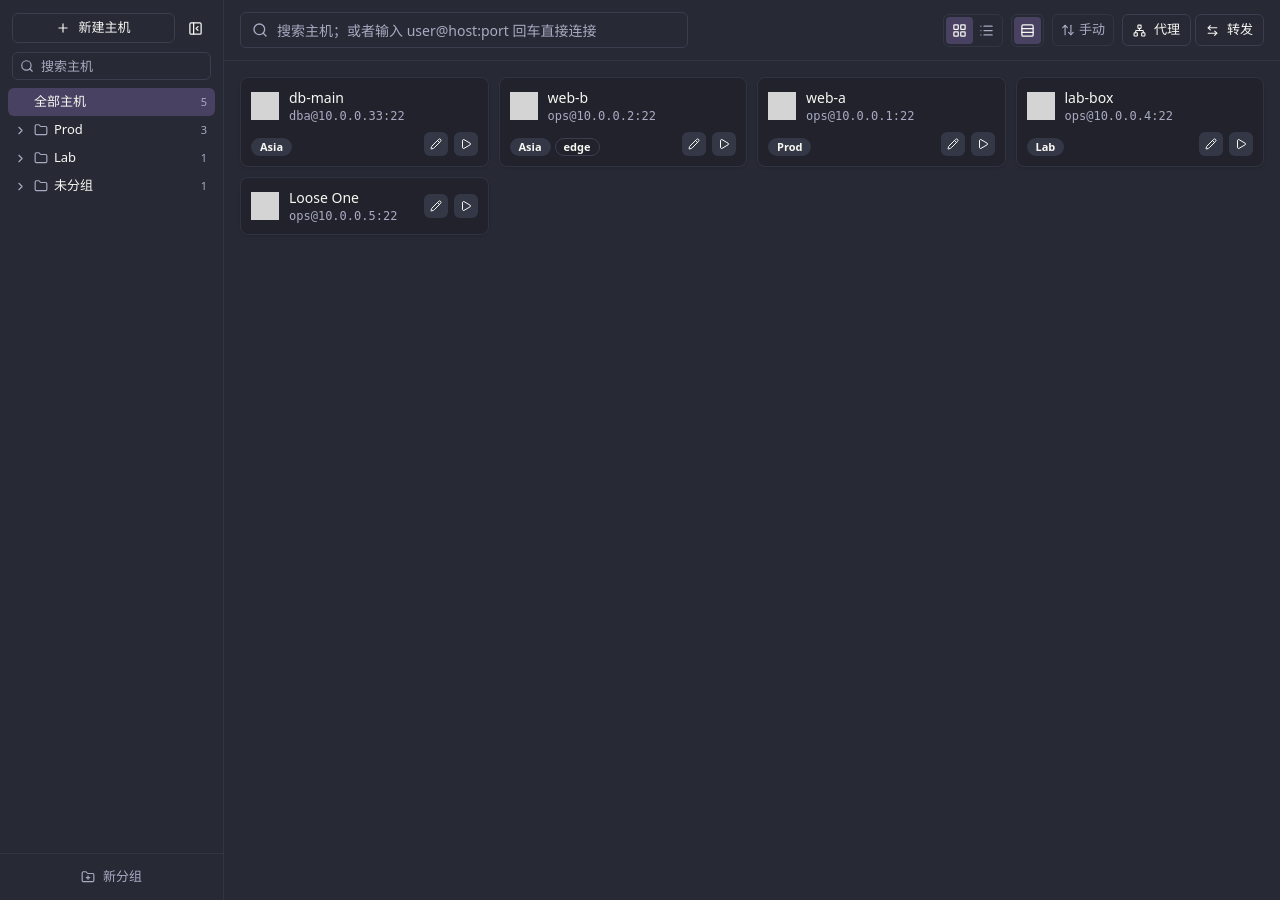
it: 主机树搜索框 › 没有结果时显示「没有匹配的主机」
Type "zzz-none" into the field named "搜索主机树" at (112, 66), box [12,52,211,80]
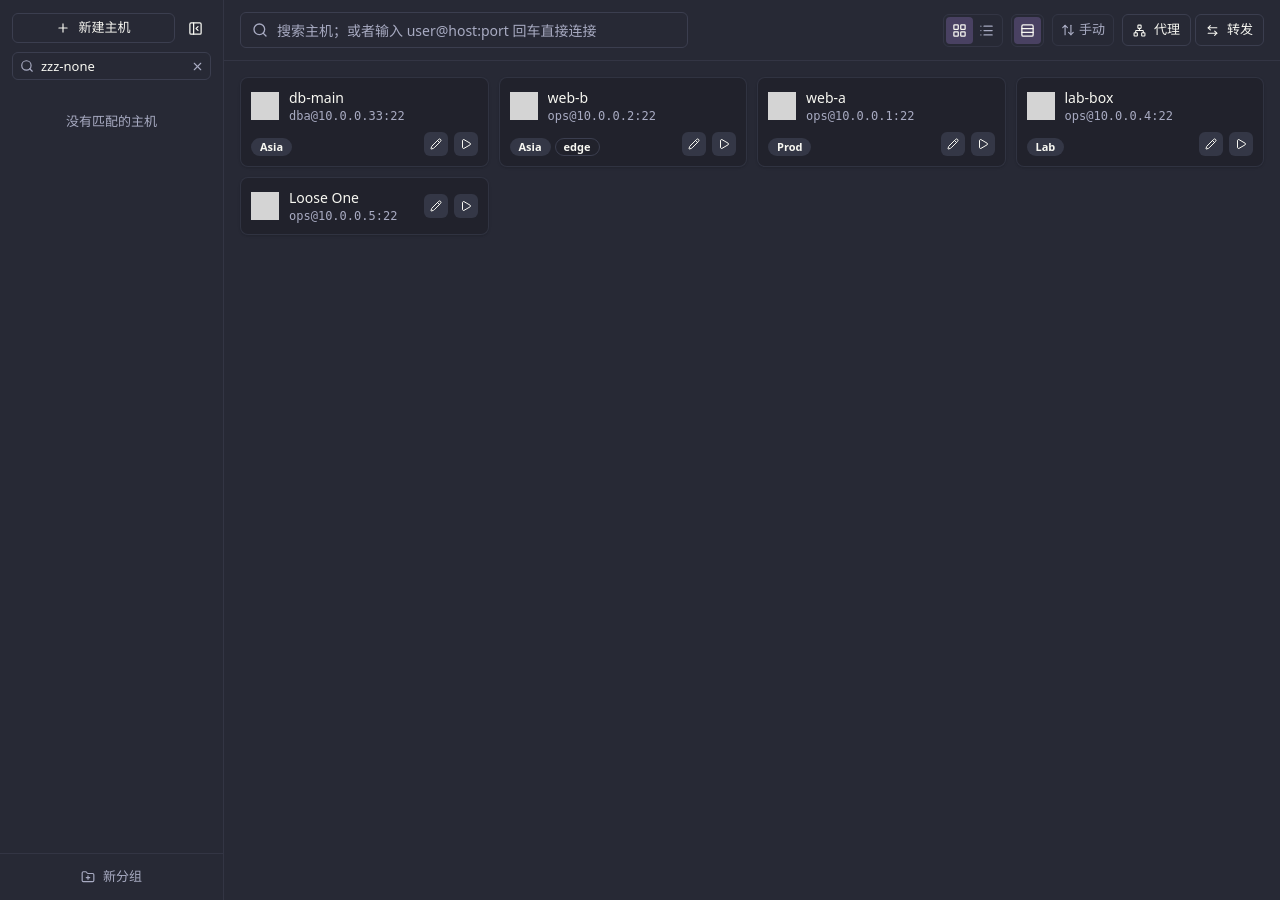
Expected: the text "没有匹配的主机" is shown, [66,112,157,130]
Expected: the button "全部主机" is gone
Clear the field named "搜索主机树" at (112, 66), box [12,52,211,80]
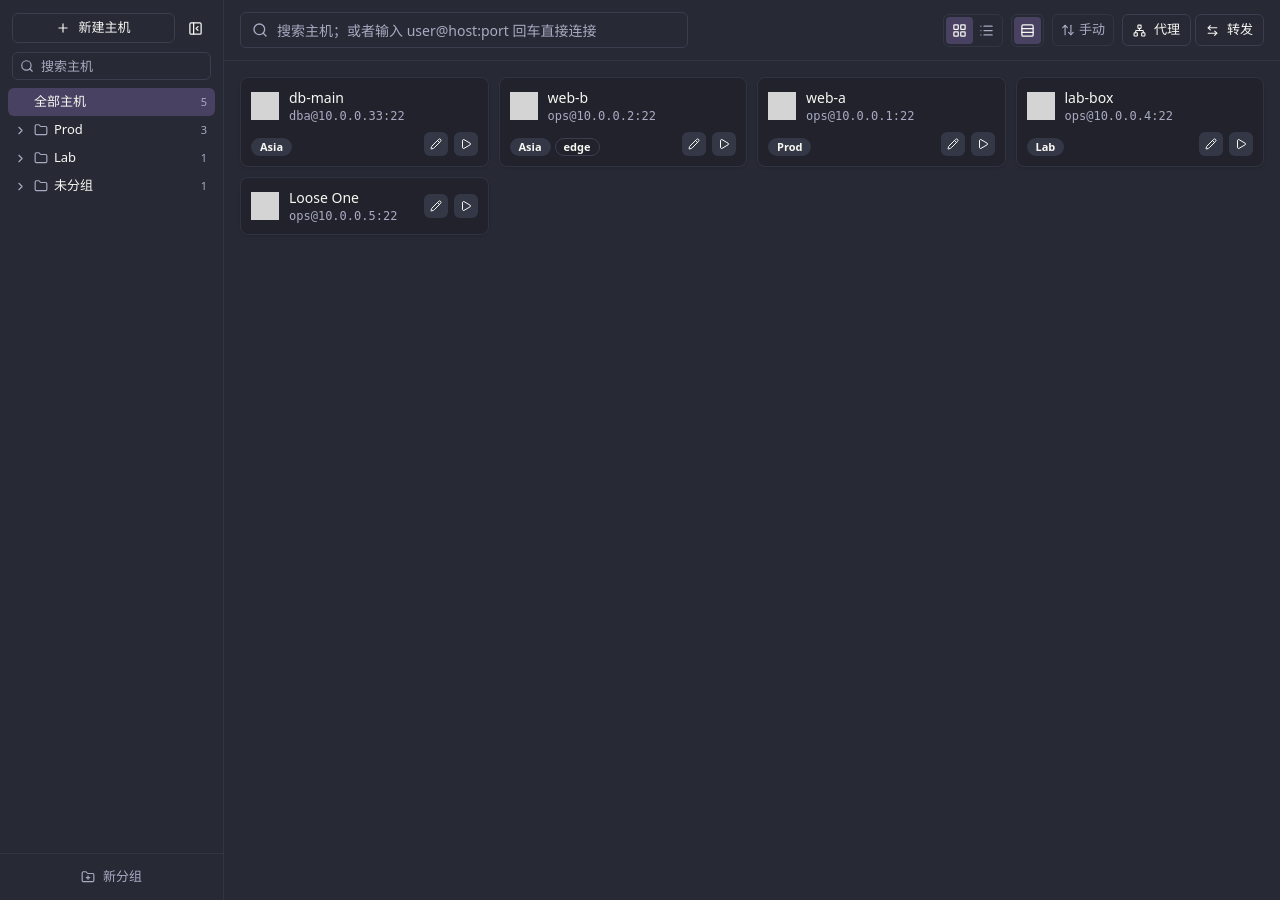
Expected: the text "没有匹配的主机" is gone
Expected: the text "全部主机" is shown, [34,92,86,112]
